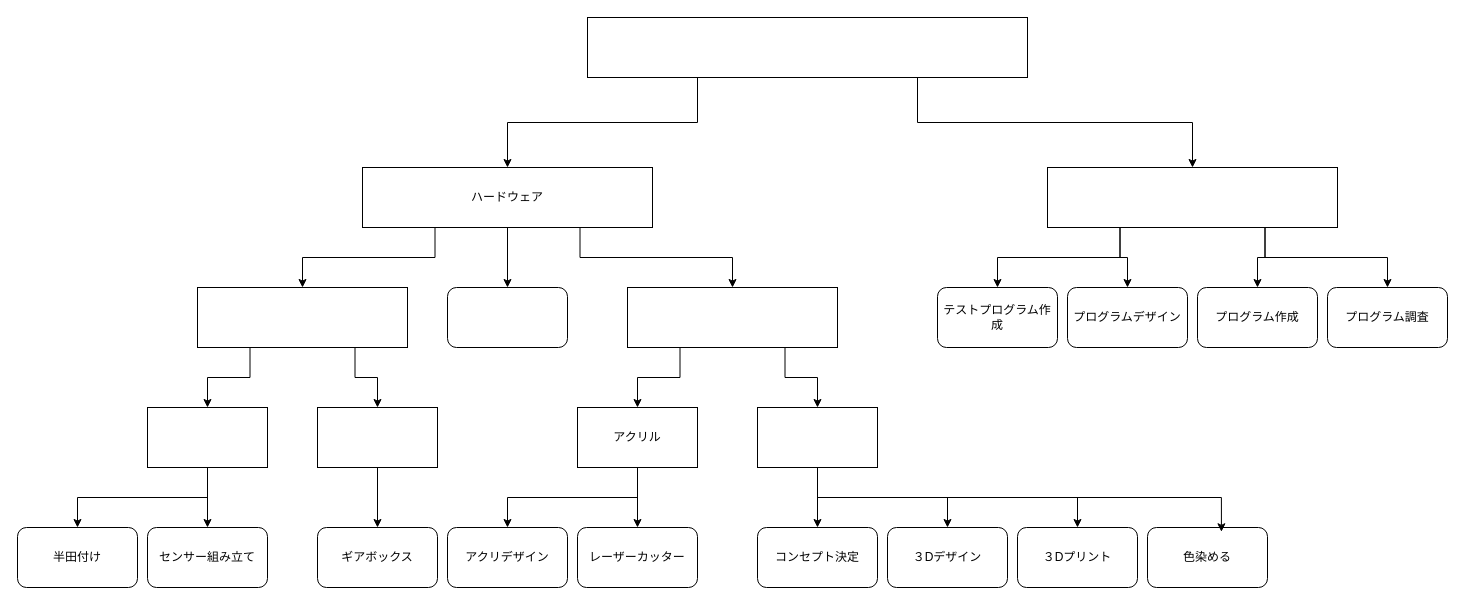
The diagram is 1465 pixels wide and 605 high, and some of its shapes have lost their labels. The box of each missing label's shape, as (x1, y1, x2, y2) in pixels:
ソフトウェア: (1046, 166, 1338, 228)
マスコット: (756, 406, 878, 468)
モーター: (316, 406, 438, 468)
ライントレースカーの作成: (586, 16, 1028, 78)
回路: (146, 406, 268, 468)
本体組み立て: (446, 286, 568, 348)
美的部品: (626, 286, 838, 348)
電子部品: (196, 286, 408, 348)
